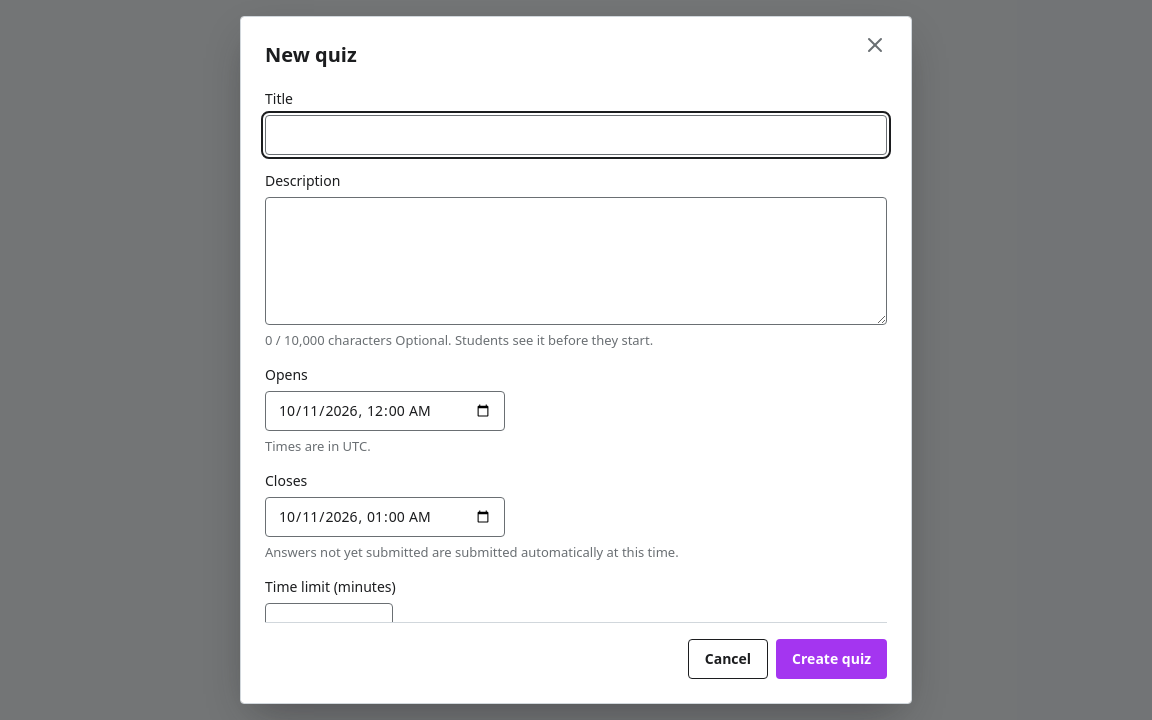
Test case: refuses Closes before Opens without a request
Type "Week 3 check" into the field labelled "Title". click: (576, 135)
box: [265, 115, 887, 155]
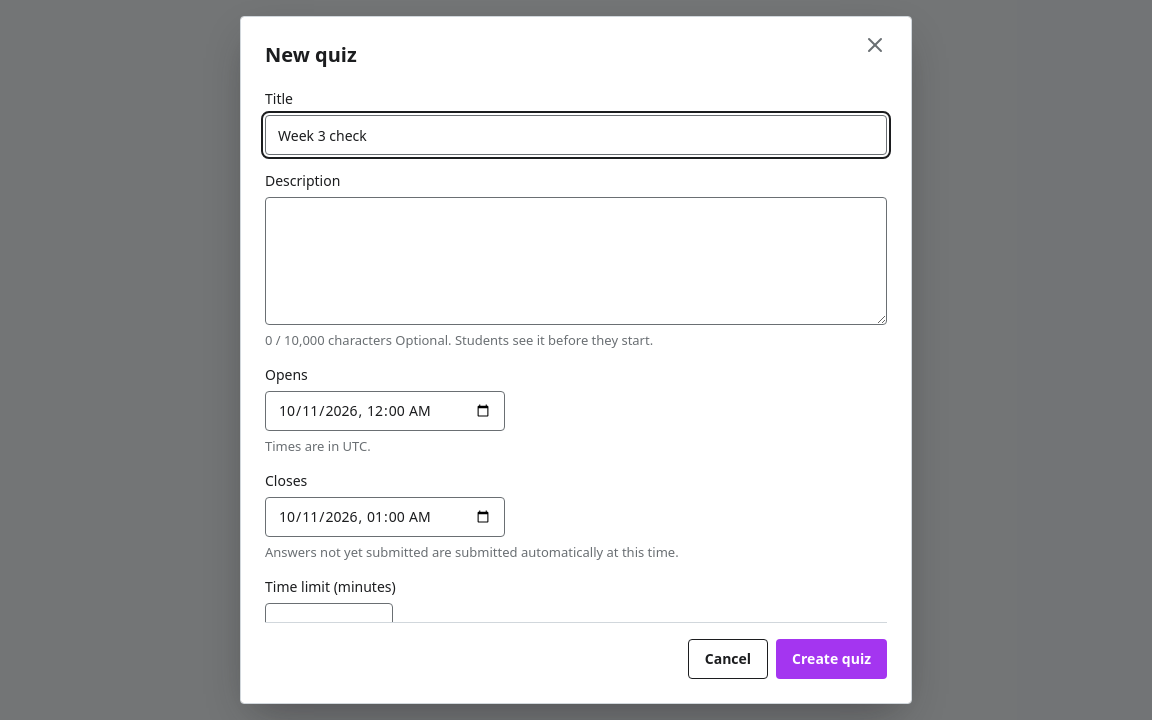
Replace the text in the field labelled "Opens" with "2026-10-12T10:00". click: (385, 411)
box: [265, 391, 505, 431]
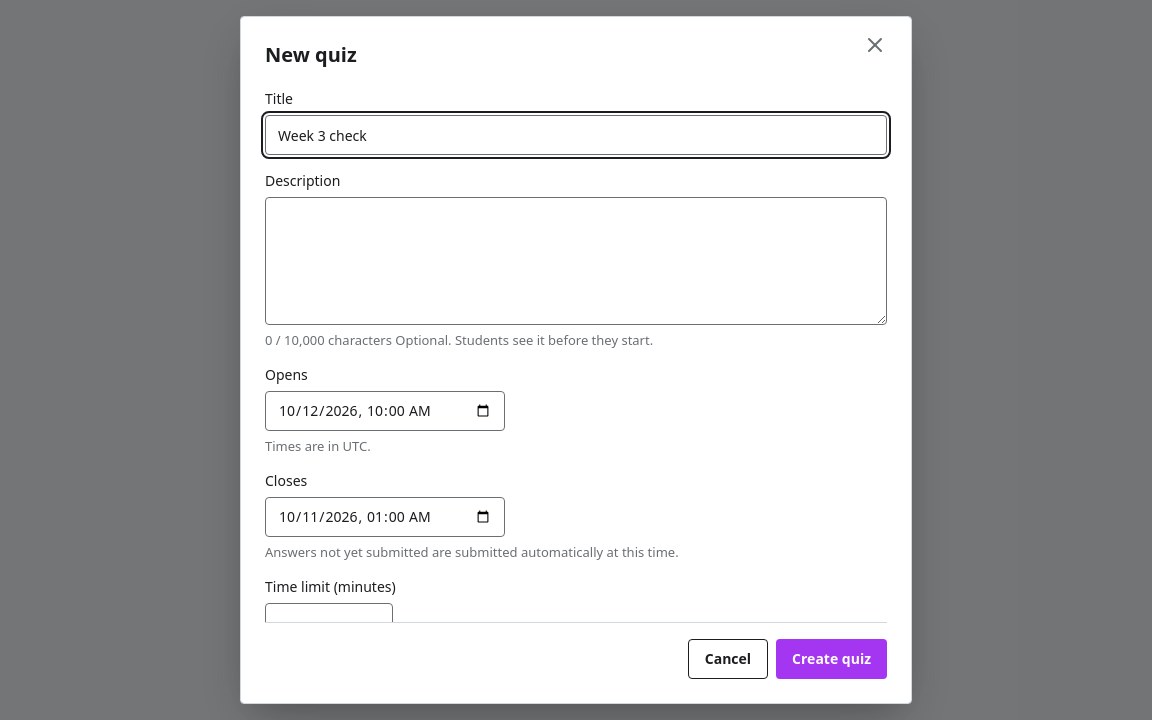
Replace the text in the field labelled "Closes" with "2026-10-12T09:00". click: (385, 517)
box: [265, 497, 505, 537]
(page scrolled)
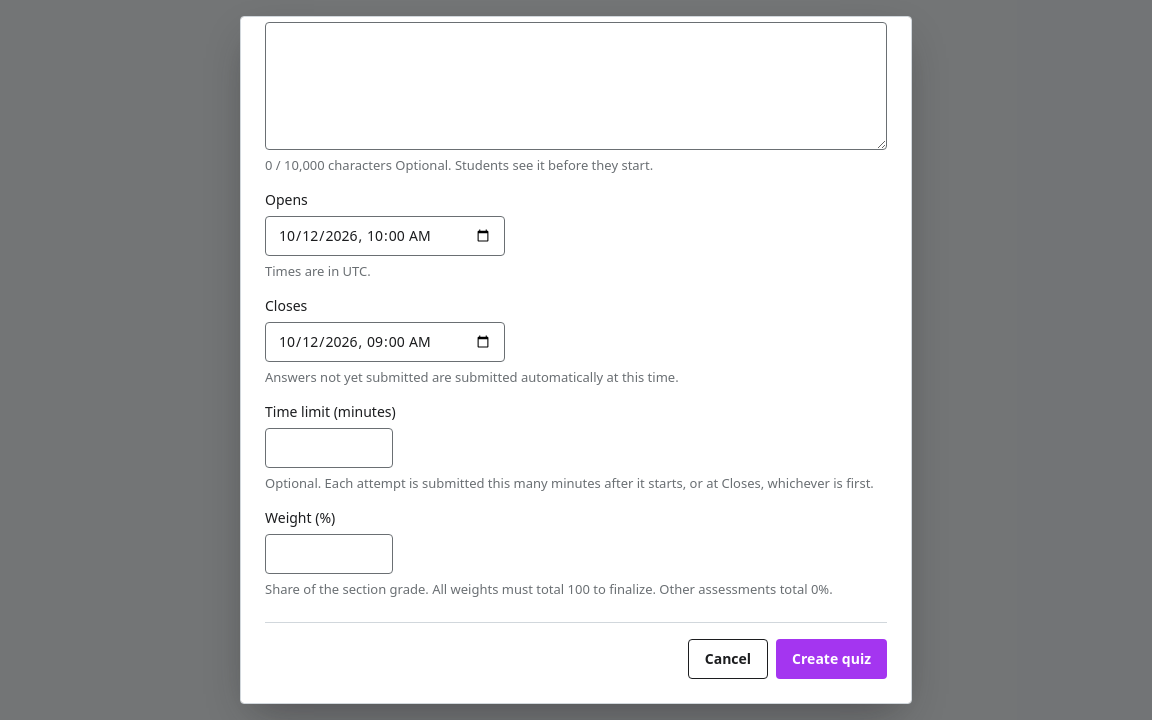
Type "40" into the field labelled "Weight (%)". click: (329, 554)
box: [265, 534, 393, 574]
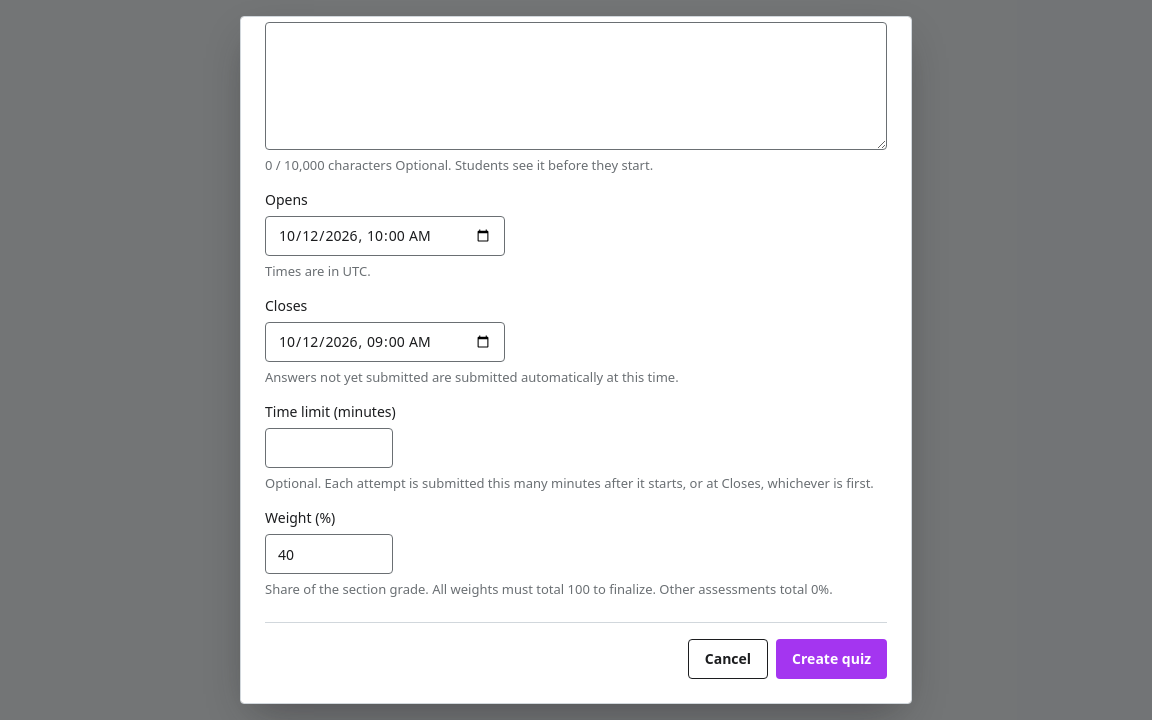
Click the button "Create quiz". click: (832, 659)
box: [776, 639, 887, 679]
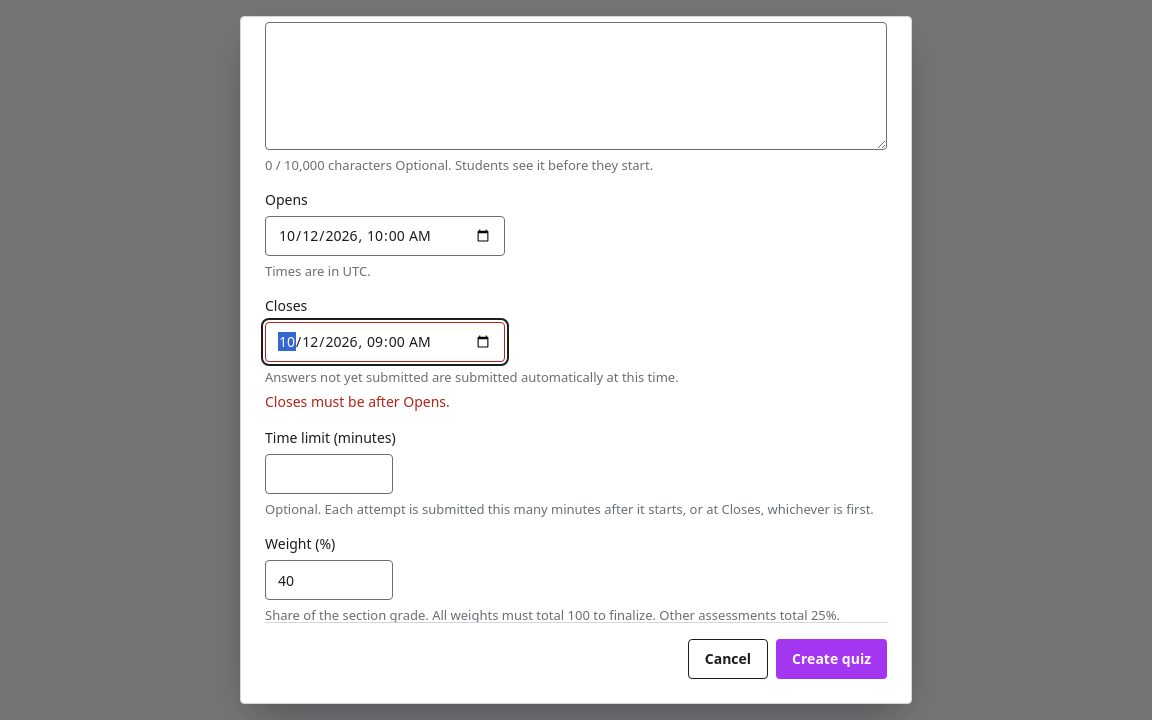
Now the text "Closes must be after Opens." is shown, box [264, 391, 450, 411]
